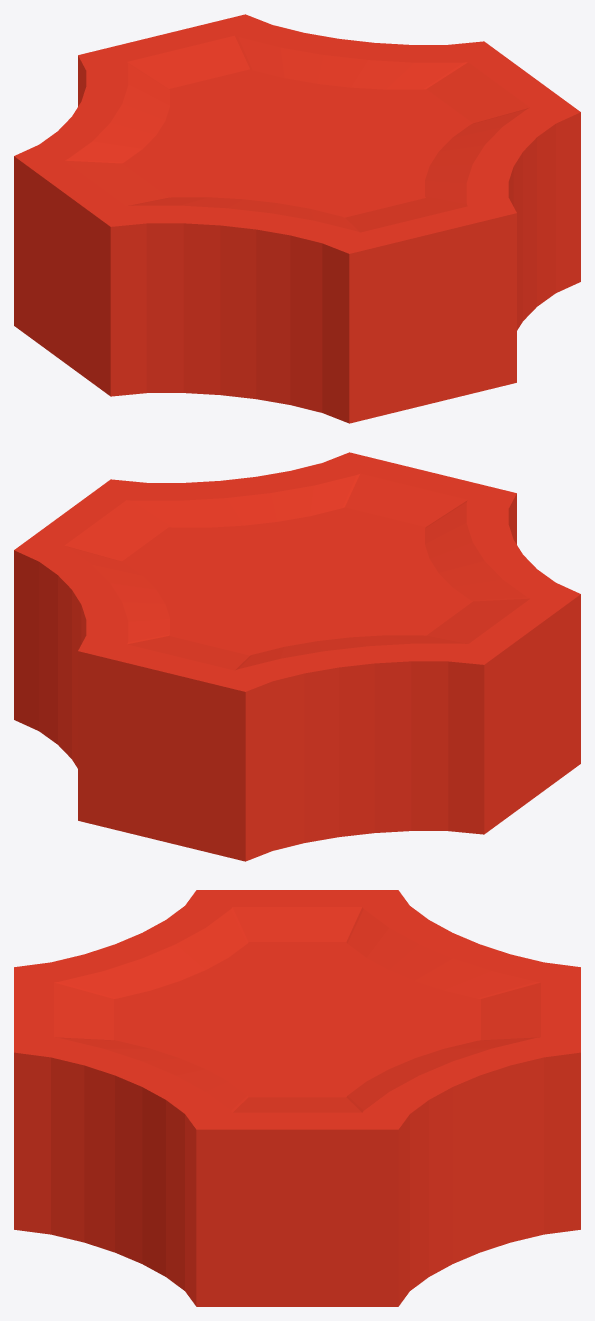
The model's file is seleccionroja.glb.
3 renders of one model, top to bottom at view 1: azimuth 30°, elevation 25°; view 2: azimuth 150°, elevation 25°; view 3: azimuth 270°, elevation 25°, orthographic. The views are drawn at different scales.
Parts seen in each view (by area): view 1: Cubo.004; view 2: Cubo.004; view 3: Cubo.004.
Boxes of the visible parts, x1,y1,x2,y2 form: Cubo.004: (14,14,580,423); Cubo.004: (14,452,580,861); Cubo.004: (14,890,580,1306).
Size of the model in its own units: 2.05 by 0.7449 by 2.05.
